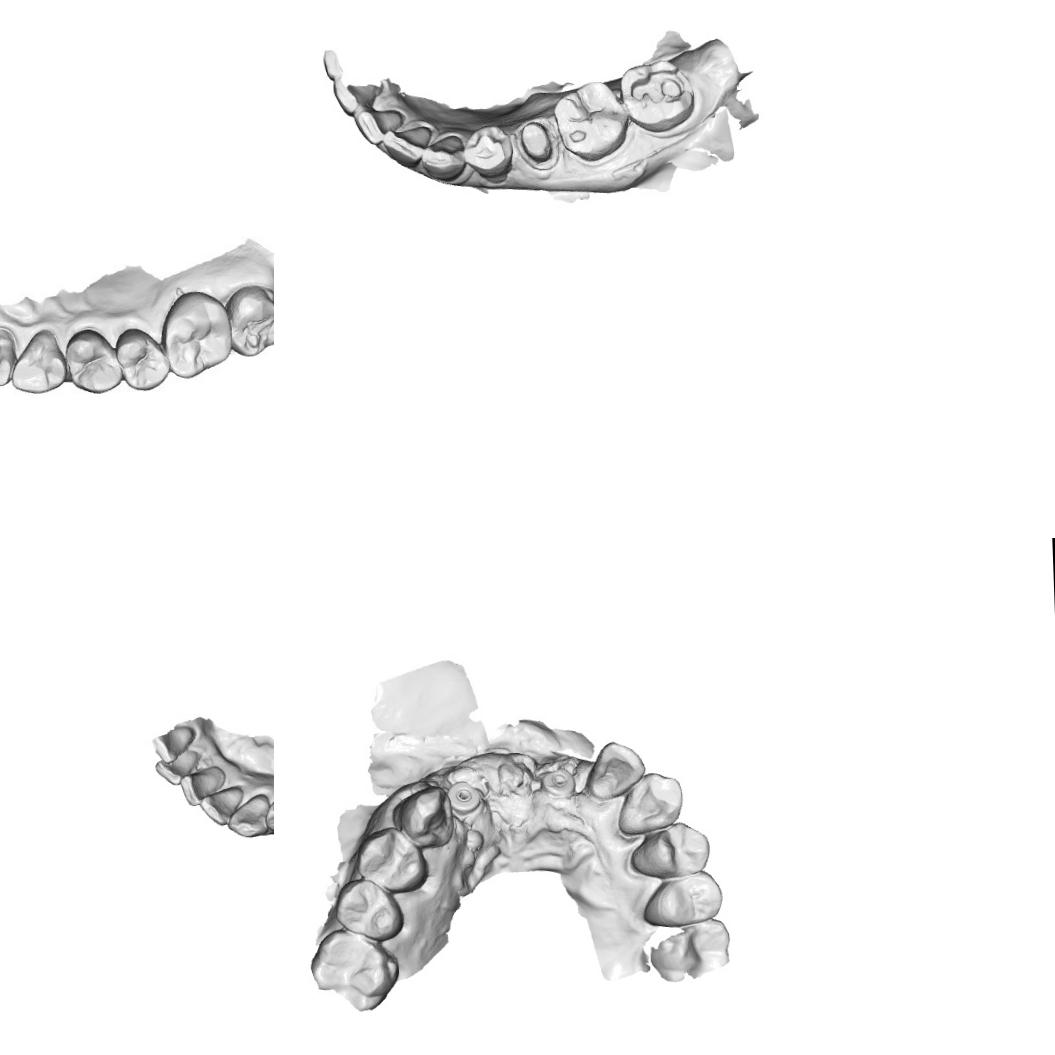canine: (614, 770, 689, 834), (8, 328, 70, 400), (392, 785, 456, 848), (418, 130, 468, 184), (226, 793, 271, 839)
crown: (517, 113, 558, 171)
implant: (543, 764, 578, 798), (450, 781, 483, 814)
incisor: (584, 738, 648, 799), (378, 121, 435, 172), (351, 105, 410, 150), (331, 75, 385, 118), (179, 766, 227, 807), (198, 786, 244, 827), (151, 725, 195, 764), (0, 327, 16, 388), (154, 759, 188, 786)
inlay: (625, 62, 693, 110)
molar: (309, 926, 401, 1015), (156, 288, 232, 381), (551, 78, 631, 166), (648, 917, 734, 985), (224, 282, 274, 359)
premolar: (626, 818, 713, 883), (637, 868, 726, 928), (356, 825, 430, 896), (332, 874, 406, 942), (115, 324, 170, 395), (66, 325, 120, 396), (460, 122, 516, 182), (264, 790, 274, 840)
